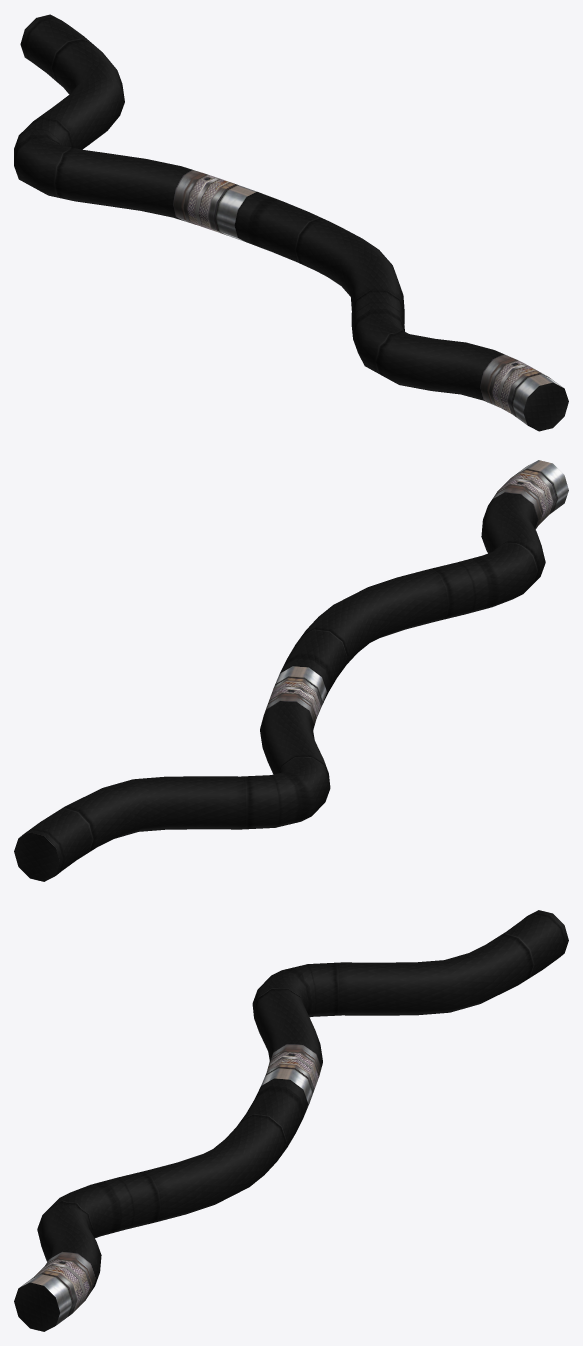
File: SM_Hose5.fbx
The picture shows the model from 3 angles, top to bottom: view 1: azimuth 30°, elevation 25°; view 2: azimuth 150°, elevation 25°; view 3: azimuth 330°, elevation 25°; orthographic projection.
Visible parts, largest first — view 1: SM_Hose5_LOD0; view 2: SM_Hose5_LOD0; view 3: SM_Hose5_LOD0.
Boxes of the visible parts, x1,y1,x2,y2 form: SM_Hose5_LOD0: (14,14,568,431); SM_Hose5_LOD0: (14,460,568,881); SM_Hose5_LOD0: (14,910,568,1331).
Bounding box in the file's own units: 40.9 × 200 × 9.99.
1 material, 1 textured.
